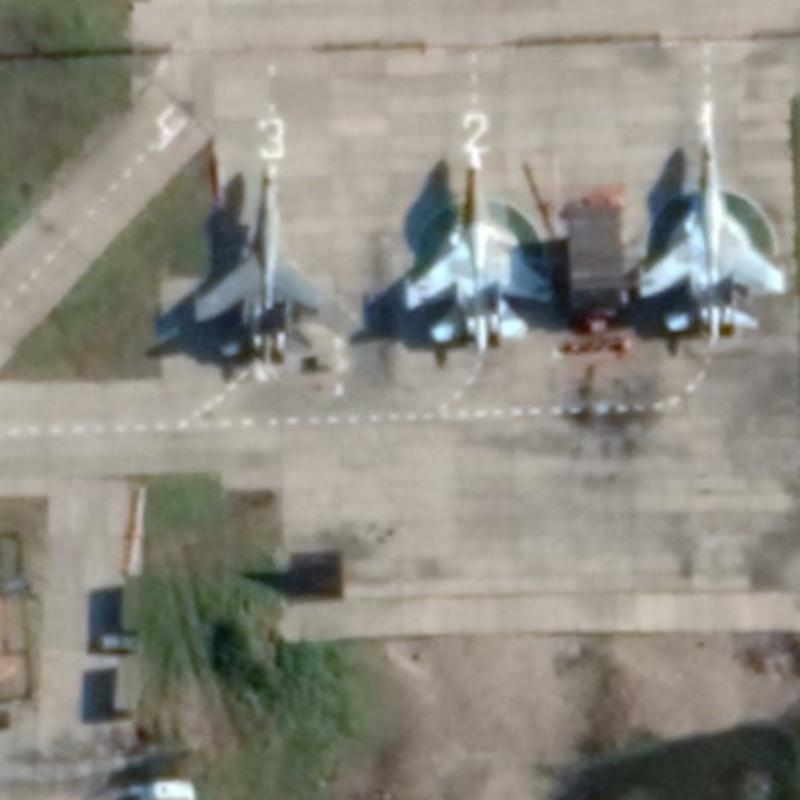A1: (397, 140, 557, 356), (629, 134, 788, 348), (187, 158, 332, 367)
